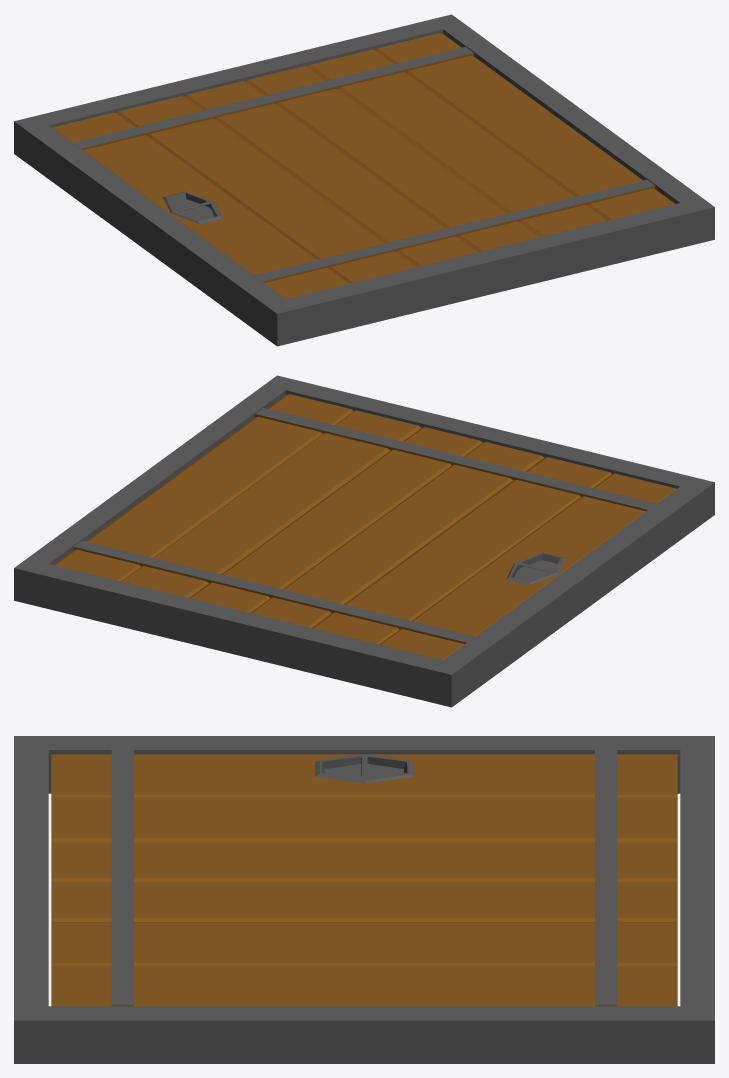
The model's file is Trapdoor.fbx.
3 renders of one model, top to bottom at view 1: azimuth 30°, elevation 25°; view 2: azimuth 150°, elevation 25°; view 3: azimuth 270°, elevation 25°, orthographic. The views are drawn at different scales.
Parts seen in each view (by area): view 1: Cube.001, Cube.002; view 2: Cube.001, Cube.002; view 3: Cube.001, Cube.002.
Part boxes in pixels (x1=…): Cube.001: x1=52, y1=33, x2=674, y2=298; Cube.002: x1=14, y1=14, x2=714, y2=346; Cube.001: x1=54, y1=394, x2=676, y2=659; Cube.002: x1=14, y1=375, x2=714, y2=707; Cube.001: x1=51, y1=749, x2=677, y2=1006; Cube.002: x1=14, y1=736, x2=714, y2=1063.
Bounding box in the file's own units: 390 × 27.91 × 407.
